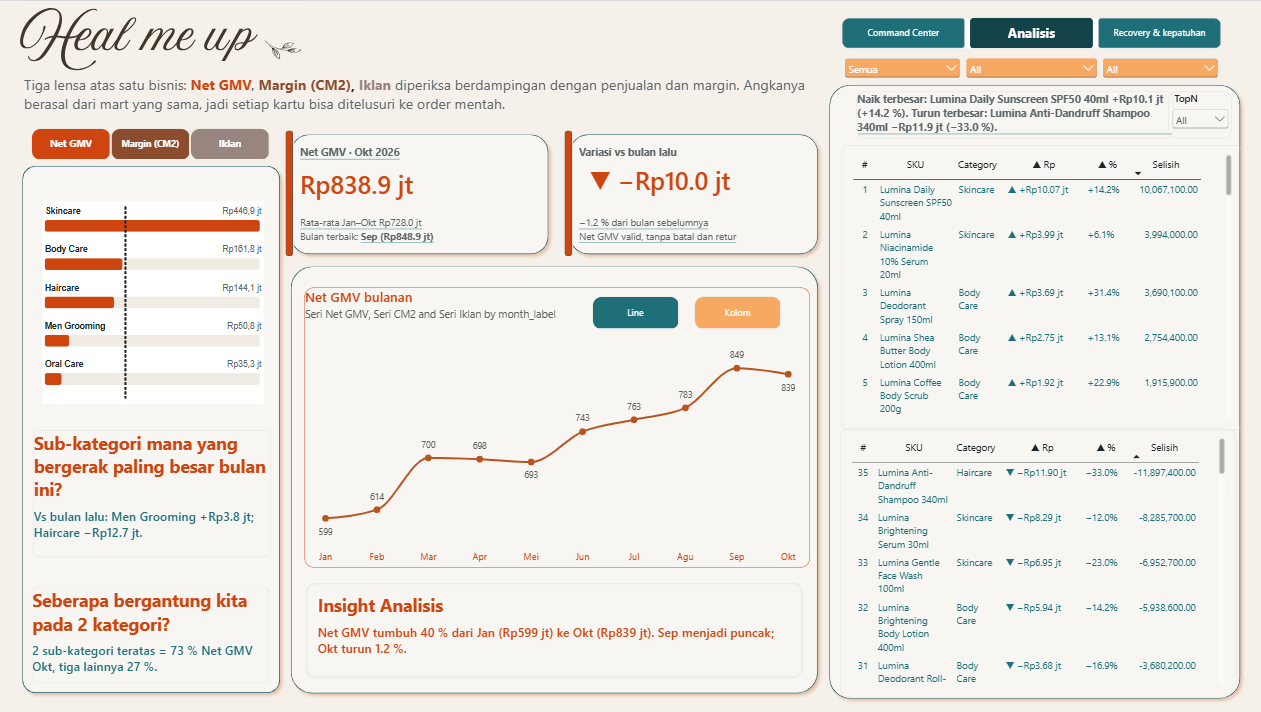

The dashboard page shown, as its layout file describes it:
{"tool":"powerbi","page":{"name":"Analisis","canvas":[1920,1080],"ordinal":1},"visuals":[{"type":"image","title":"Judul","box":[0,0,480,128],"z":0},{"type":"pageNavigator","box":[1276.2,24,576,48],"z":0,"group":"g2"},{"type":"slicer","fields":{"Values":["PlatSel.label"]},"box":[1276.2,79.7,184.3,55.7],"z":0,"group":"g4"},{"type":"shape","title":"shape detail semua platform","box":[1248,116.9,640,947.1],"z":0,"group":"g6"},{"type":"actionButton","title":"semua","box":[48,192,120,48],"z":0,"group":"g5"},{"type":"group","id":"g1","title":"Group 2","box":[432,192,816,864],"z":0,"group":"g8"},{"type":"shape","title":"Shape uang kebocoran","box":[432,192,408,199.4],"z":0,"group":"g1"},{"type":"shape","title":"Shape uang kebocoran","box":[854.6,192,393.4,199.4],"z":0,"group":"g7"},{"type":"shape","title":"Shape bar chart","box":[24,240,408,816],"z":0,"group":"g3"},{"type":"group","id":"g2","title":"Group 3","box":[1276.2,24,608,624],"z":1000,"group":"g6"},{"type":"slicer","title":"Slicer filter kategori","fields":{"Values":["DimSKU.sub_category"]},"box":[1460.5,79.7,207.4,55.7],"z":1000,"group":"g4"},{"type":"actionButton","box":[168,192,120,48],"z":1000,"group":"g5"},{"type":"group","id":"g3","title":"Group deneb","box":[24,240,408,816],"z":1000},{"type":"cardVisual","title":"Card uang kebocoran","fields":{"Data":["_Measures.KPI Delta Teks"]},"box":[876.5,248.1,350.2,62.8],"z":1000,"group":"g7"},{"type":"shape","title":"Shape net gmv linechart''","box":[432,391.4,816,664.6],"z":1000,"group":"g1"},{"type":"slicer","title":"Slicer filter bulan","fields":{"Values":["DimMonth.month_start"]},"box":[1667.9,79.7,184.3,55.7],"z":2000,"group":"g4"},{"type":"slicer","fields":{"Values":["TopN.TopN"]},"box":[1772.2,136,96,72],"z":2000,"group":"g2"},{"type":"actionButton","box":[288,192,120,48],"z":2000,"group":"g5"},{"type":"textbox","box":[876.5,216.9,349.7,24.9],"z":2000,"group":"g7"},{"type":"cardVisual","title":"Card uang kebocoran","fields":{"Data":["Ads.KPI Nilai Teks"]},"box":[454.7,249,362.7,57],"z":2000,"group":"g1"},{"type":"cardVisual","title":"Card region insight","fields":{"Data":["_Measures.Insight Sub Gerak"]},"box":[48,648,360,192],"z":2000,"group":"g3"},{"type":"cardVisual","title":"Card region insight","fields":{"Data":["Ads.Insight Konsentrasi"]},"box":[48,888,360,144],"z":2000},{"type":"tableEx","fields":{"Values":["_Measures.Mov Nomor","Movers.product_name","Movers.sub_category","_Measures.Mov Teks Delta","_Measures.Mov Teks Persen","_Measures.Mov Delta Rp"]},"box":[1276.2,216,608,432],"z":3000,"group":"g2"},{"type":"textbox","box":[453.9,216.9,371.6,24.9],"z":3000,"group":"g1"},{"type":"textbox","box":[876.5,322.8,350.2,62.8],"z":3000,"group":"g7"},{"type":"group","id":"g4","title":"Group 6","box":[1276.2,79.7,576,55.7],"z":4000,"group":"g2"},{"type":"group","id":"g5","title":"Group 1","box":[48,192,360,48],"z":4000},{"type":"textbox","box":[454.7,323.9,362.7,57],"z":4000,"group":"g1"},{"type":"shape","box":[432,195,13.7,192.3],"z":5000,"group":"g1"},{"type":"tableEx","fields":{"Values":["_Measures.Mov Nomor","Movers.product_name","Movers.sub_category","_Measures.Mov Teks Delta","_Measures.Mov Teks Persen","_Measures.Mov Delta Rp"]},"box":[1272,648,600,288],"z":5000},{"type":"group","id":"g6","title":"Group 4","box":[1248,24,640,1040],"z":6000},{"type":"group","id":"g7","title":"Group uang kebocoran","box":[854.6,192,393.4,199.4],"z":6000,"group":"g1"},{"type":"group","id":"g8","title":"Group 5","box":[432,192,816,864],"z":7000},{"type":"shape","box":[854.6,195,13.7,192.3],"z":7000,"group":"g1"},{"type":"textbox","box":[36,111,1184,64],"z":8000},{"type":"lineChart","fields":{"Category":["DimMonth.month_label"],"Y":["_Measures.Seri Net GMV","_Measures.Seri CM2","_Measures.Seri Iklan"]},"box":[461.1,432.9,765,423.7],"z":9000,"group":"g1"},{"type":"tableEx","fields":{"Values":["_Measures.Mov Nomor","Movers.product_name","Movers.sub_category","_Measures.Mov Teks Delta","_Measures.Mov Teks Persen","_Measures.Mov Delta Rp"]},"box":[1272,648,600,408],"z":9000},{"type":"deneb7E15AEF80B9E4D4F8E12924291ECE89A","fields":{"dataset":["SubCat.sub_category","_Measures.Sub Net GMV Akhir","_Measures.Warna Aksen Tab"]},"box":[48,288,368,352],"z":10000},{"type":"actionButton","box":[898.3,447.5,131.1,49.8],"z":10000,"group":"g1"},{"type":"textbox","box":[1296,136,480,72],"z":11000},{"type":"actionButton","box":[1051.3,447.5,131.1,49.8],"z":11000,"group":"g1"},{"type":"cardVisual","fields":{"Data":["_Measures.Insight Analisis"]},"box":[464,880,752,144],"z":12000,"group":"g1"}]}

Visuals, with their boxes in screenshot pixels (x1, y1, x2, y2), scaled from the page's 1920x1080 canvas onto the 1261x712 screenshot:
"Judul" image: <box>0,0,315,84</box>
pageNavigator: <box>838,16,1216,47</box>
slicer - PlatSel.label: <box>838,53,959,89</box>
"shape detail semua platform" shape: <box>820,77,1240,701</box>
"semua" actionButton: <box>32,127,110,158</box>
"Group 2" group: <box>284,127,820,696</box>
"Shape uang kebocoran" shape: <box>284,127,552,258</box>
"Shape uang kebocoran" shape: <box>561,127,820,258</box>
"Shape bar chart" shape: <box>16,158,284,696</box>
"Group 3" group: <box>838,16,1237,427</box>
"Slicer filter kategori" slicer: <box>959,53,1095,89</box>
actionButton: <box>110,127,189,158</box>
"Group deneb" group: <box>16,158,284,696</box>
"Card uang kebocoran" cardVisual: <box>576,164,806,205</box>
"Shape net gmv linechart''" shape: <box>284,258,820,696</box>
"Slicer filter bulan" slicer: <box>1095,53,1216,89</box>
slicer - TopN.TopN: <box>1164,90,1227,137</box>
actionButton: <box>189,127,268,158</box>
textbox: <box>576,143,805,159</box>
"Card uang kebocoran" cardVisual: <box>299,164,537,202</box>
"Card region insight" cardVisual: <box>32,427,268,554</box>
"Card region insight" cardVisual: <box>32,585,268,680</box>
tableEx - _Measures.Mov Nomor x Movers.product_name: <box>838,142,1237,427</box>
textbox: <box>298,143,542,159</box>
textbox: <box>576,213,806,254</box>
"Group 6" group: <box>838,53,1216,89</box>
"Group 1" group: <box>32,127,268,158</box>
textbox: <box>299,214,537,251</box>
shape: <box>284,129,293,255</box>
tableEx - _Measures.Mov Nomor x Movers.product_name: <box>835,427,1229,617</box>
"Group 4" group: <box>820,16,1240,701</box>
"Group uang kebocoran" group: <box>561,127,820,258</box>
"Group 5" group: <box>284,127,820,696</box>
shape: <box>561,129,570,255</box>
textbox: <box>24,73,801,115</box>
lineChart - DimMonth.month_label x _Measures.Seri Net GMV: <box>303,285,805,565</box>
tableEx - _Measures.Mov Nomor x Movers.product_name: <box>835,427,1229,696</box>
deneb7E15AEF80B9E4D4F8E12924291ECE89A - SubCat.sub_category x _Measures.Sub Net GMV Akhir: <box>32,190,273,422</box>
actionButton: <box>590,295,676,328</box>
textbox: <box>851,90,1166,137</box>
actionButton: <box>690,295,777,328</box>
cardVisual - _Measures.Insight Analisis: <box>305,580,799,675</box>
